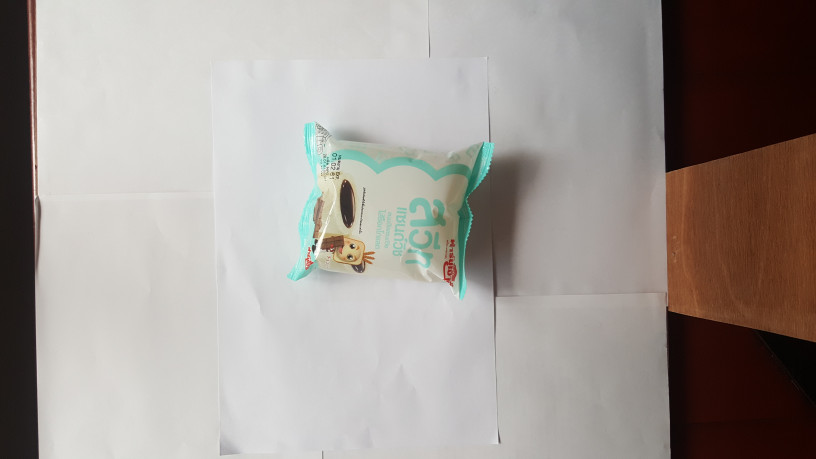farmhouse-sweetsandwich-chocolate: (281, 117, 497, 299)
